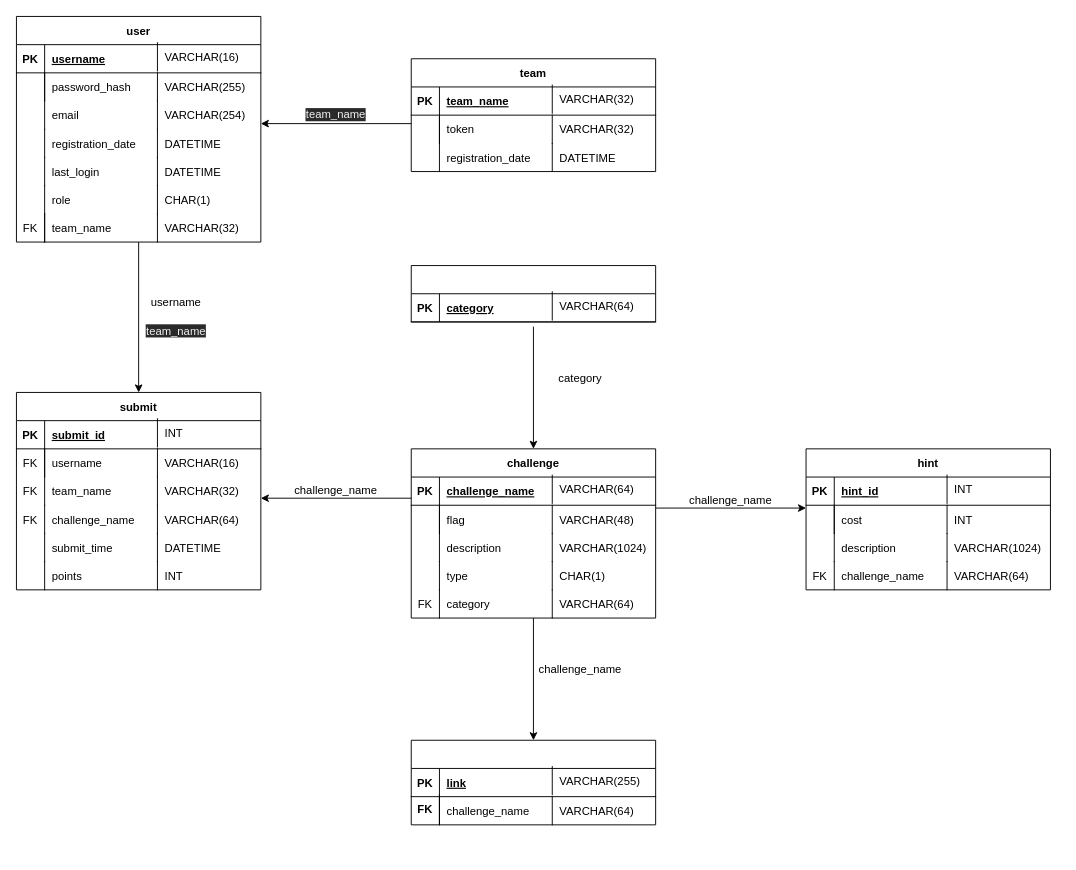
Image size: 1076x870. Some labels were removed from this diagram. The shapes that lost their labels are listed below. From the top down, each one's box as (x1, y1, x2, y2) in pixels, then its label:
(410, 265, 656, 322): challenge_category
(410, 739, 656, 825): resource
